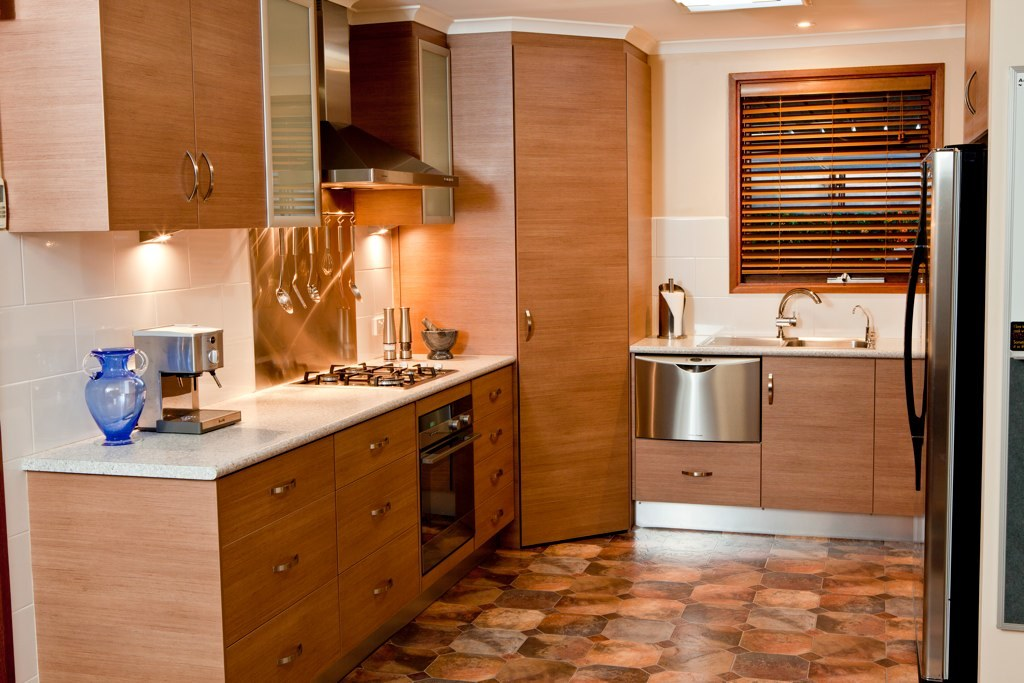cabinet door: (510, 46, 631, 519), (106, 3, 196, 217), (763, 344, 872, 502), (195, 16, 264, 223), (262, 5, 321, 217), (214, 513, 337, 585), (225, 599, 337, 674), (631, 432, 759, 496), (418, 45, 459, 216), (214, 459, 334, 509), (331, 426, 414, 491), (334, 492, 418, 552), (340, 558, 419, 618), (471, 378, 514, 421), (477, 454, 514, 500), (472, 501, 520, 530), (476, 421, 515, 453)
handle: (894, 242, 930, 431), (418, 426, 478, 467), (194, 148, 222, 201), (178, 146, 201, 203), (269, 551, 303, 584), (260, 471, 299, 497), (366, 494, 395, 527), (278, 637, 303, 674), (966, 65, 982, 122), (518, 305, 540, 342), (370, 571, 397, 601), (678, 463, 715, 484), (761, 365, 781, 403), (365, 432, 391, 460), (488, 459, 507, 489), (487, 504, 507, 527), (486, 424, 504, 447), (489, 384, 504, 403)
refrigerator door: (915, 162, 971, 683)
